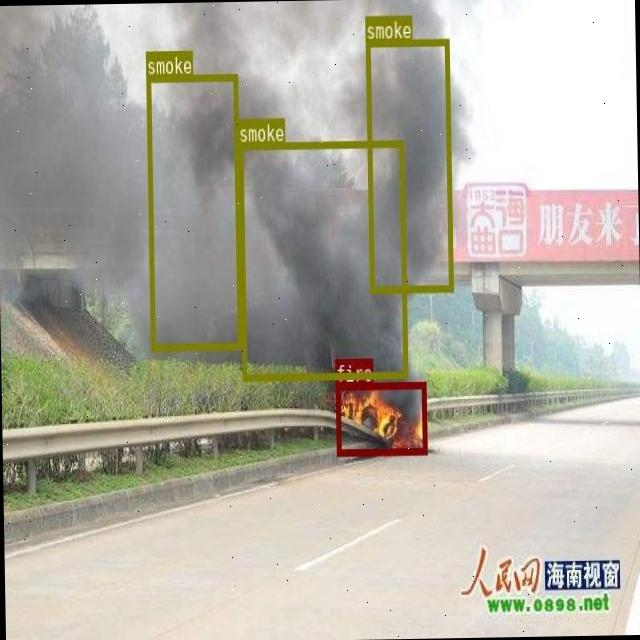fire: (334, 381, 426, 455)
smoke: (238, 140, 406, 378), (144, 72, 242, 350), (364, 37, 452, 291)
